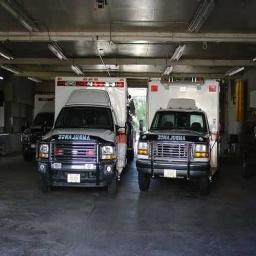ambulance: (37, 77, 132, 193), (136, 80, 218, 194)
